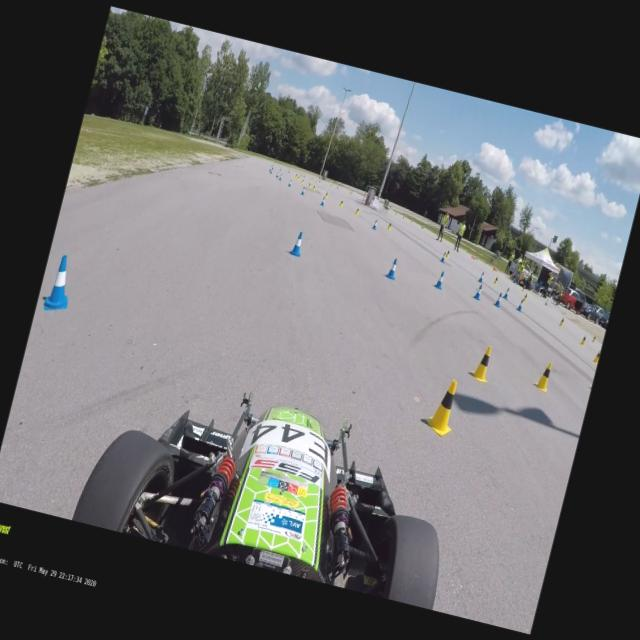blue_cone: (44, 252, 78, 312), (288, 230, 306, 256), (384, 257, 400, 280), (433, 269, 446, 290), (492, 290, 503, 308), (472, 284, 484, 300), (502, 285, 511, 301), (516, 298, 524, 313), (476, 271, 484, 283), (439, 251, 446, 263), (371, 219, 378, 230), (299, 187, 305, 196), (318, 197, 324, 206), (286, 179, 291, 187), (543, 298, 548, 306), (274, 172, 280, 178), (278, 173, 282, 181), (277, 174, 282, 180), (268, 168, 272, 174), (270, 164, 274, 170), (269, 165, 273, 170), (302, 174, 306, 178)
orange_cone: (471, 253, 476, 259), (469, 253, 474, 259)
yellow_cone: (425, 376, 461, 436), (468, 343, 496, 384), (534, 360, 553, 392), (591, 349, 600, 364), (578, 334, 586, 346), (385, 220, 392, 230), (558, 316, 564, 327), (492, 274, 498, 285), (306, 183, 314, 190), (353, 207, 359, 216), (444, 249, 450, 258), (522, 293, 528, 302), (590, 334, 596, 342), (520, 284, 526, 292), (338, 198, 344, 206), (589, 376, 593, 388), (306, 182, 312, 188), (323, 190, 328, 197), (491, 265, 496, 272), (311, 184, 316, 190), (300, 178, 304, 183), (294, 174, 298, 178), (295, 176, 299, 180), (299, 174, 302, 178)
